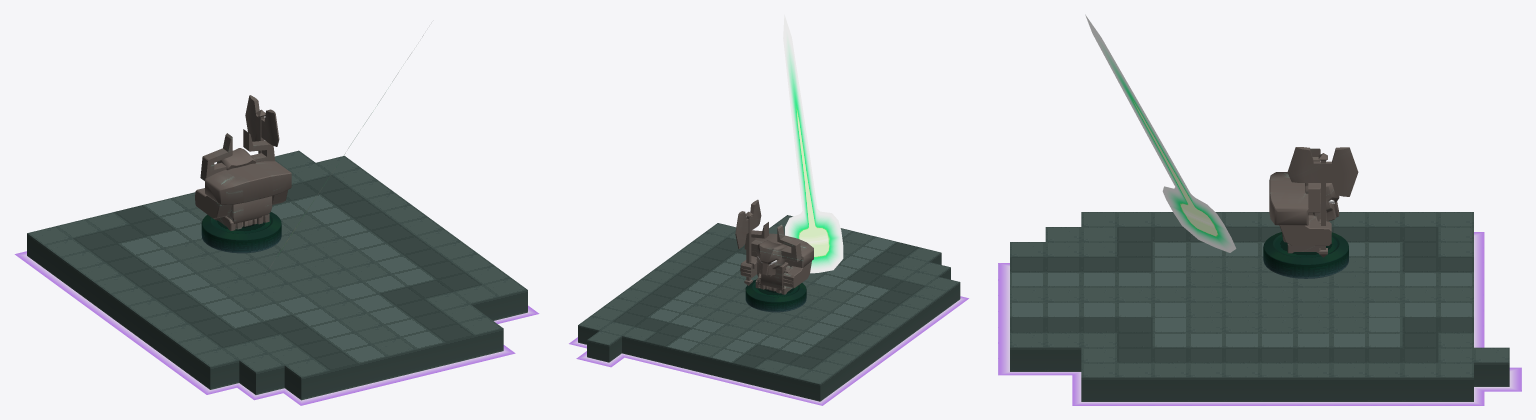
Rendered from room_puzzle.fbx.
The picture shows the model from 3 angles, left to right: view 1: azimuth 30°, elevation 25°; view 2: azimuth 150°, elevation 25°; view 3: azimuth 270°, elevation 25°; orthographic projection. The views are drawn at different scales.
Visible parts, largest first — view 1: base (×2), piece_target, shadow; view 2: base (×2), fx_light_item, piece_target, shadow, piece_target (1); view 3: base (×2), piece_target, shadow, fx_light_item.
Boxes of the visible parts, x1,y1,x2,y2 form: base (×2): (27, 150, 527, 400); piece_target: (195, 95, 291, 230); shadow: (14, 251, 539, 405); base (×2): (578, 215, 960, 401); fx_light_item: (783, 14, 843, 273); piece_target: (735, 199, 813, 294); shadow: (569, 296, 968, 405); piece_target (1): (758, 262, 788, 289); base (×2): (1010, 212, 1509, 401); piece_target: (1269, 147, 1358, 257); shadow: (998, 232, 1521, 405); fx_light_item: (1085, 14, 1236, 252).
Size of the model in its own units: 11.53 by 10.56 by 14.68.
Materials: 6 (6 with a texture image).
